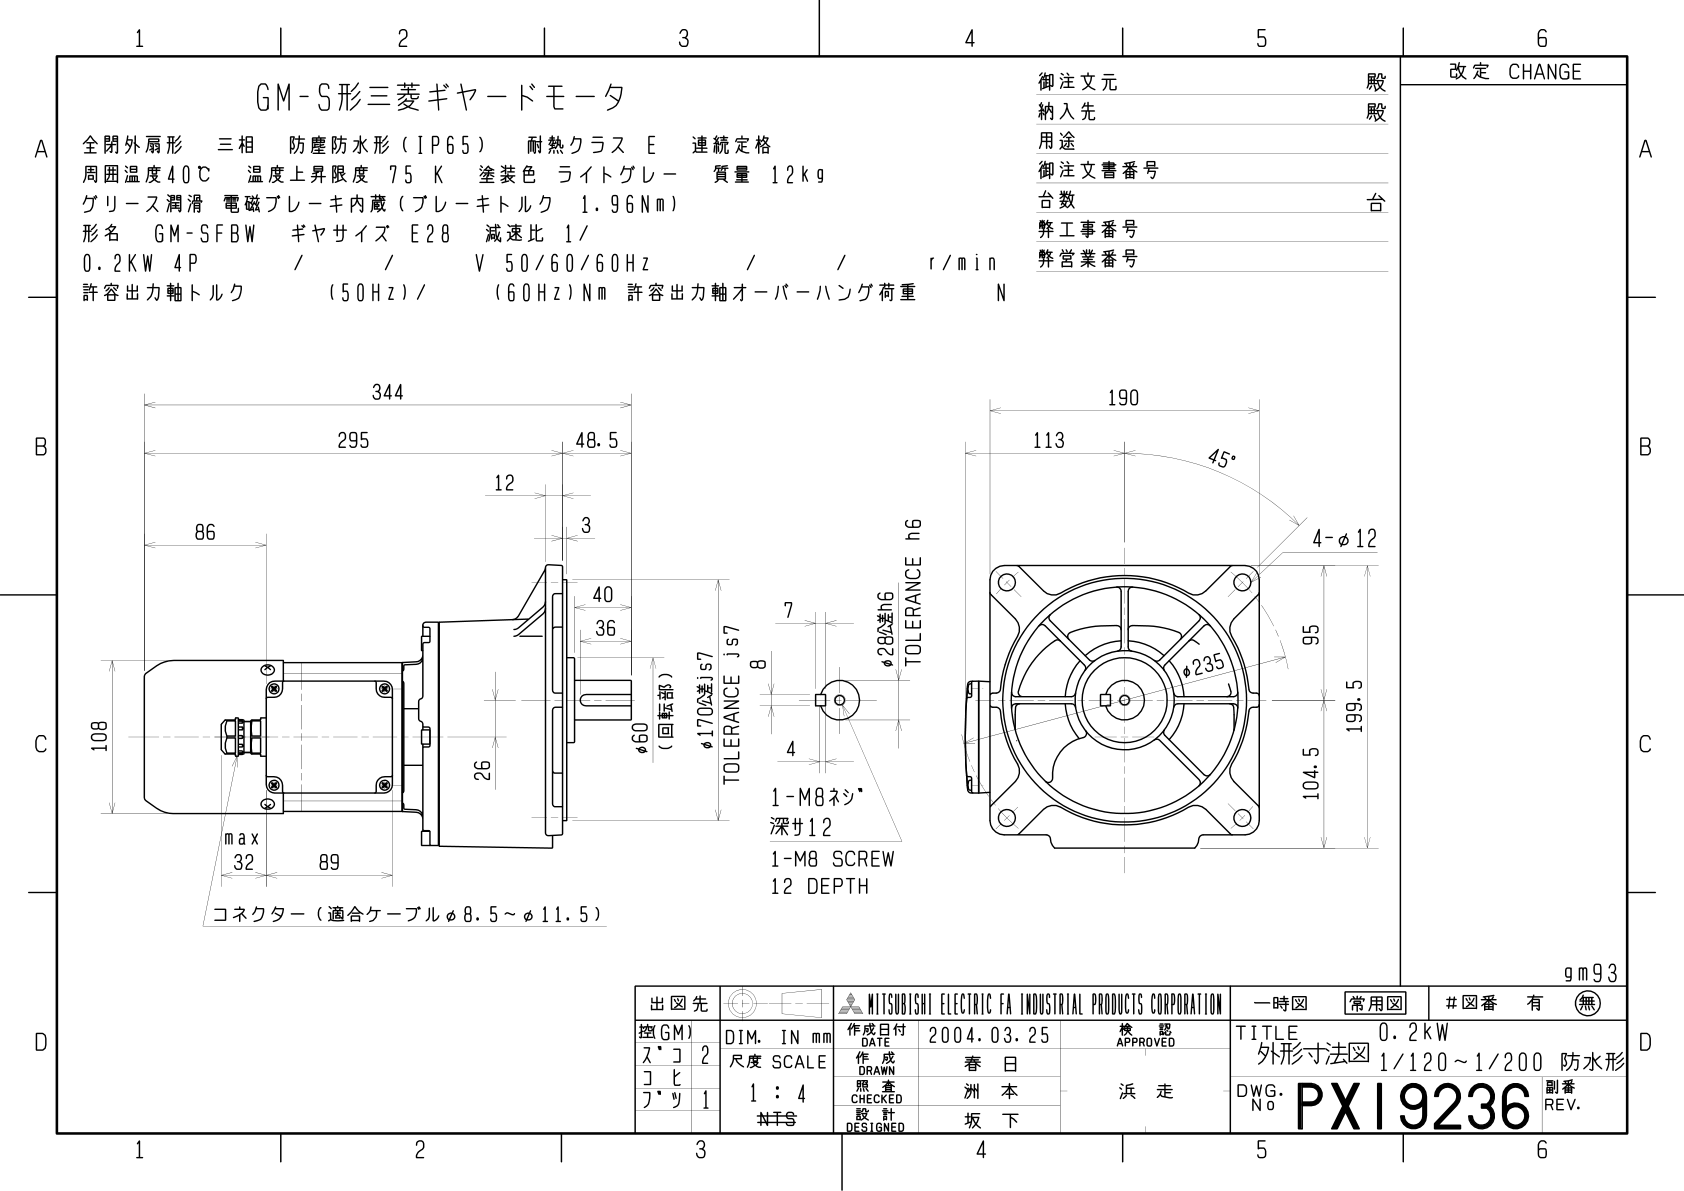GM_S_IP65＿三相_フランジ: (79, 349, 1393, 953)
